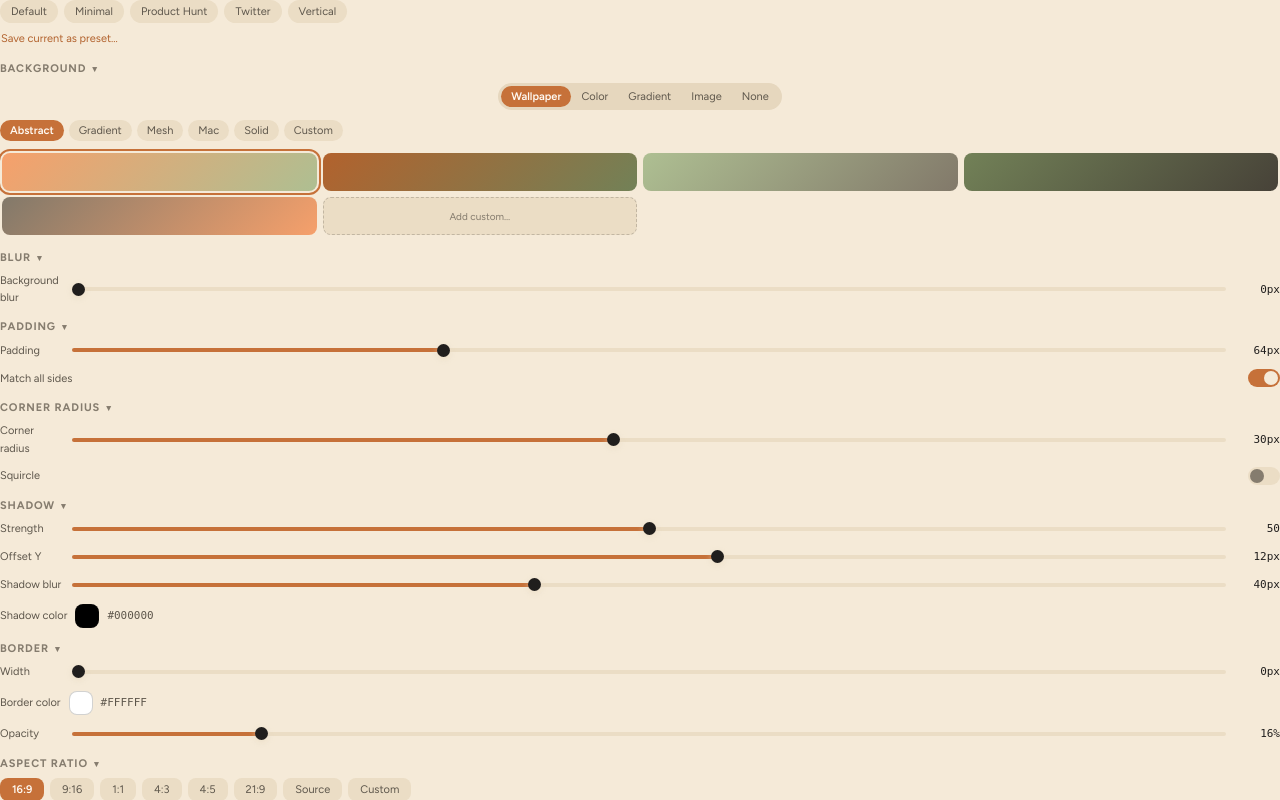
Test: Frame tab › saves the current frame as a named preset into app settings
Click the button "Save current as preset…".
click(59, 39)  # box [0,29,119,48]
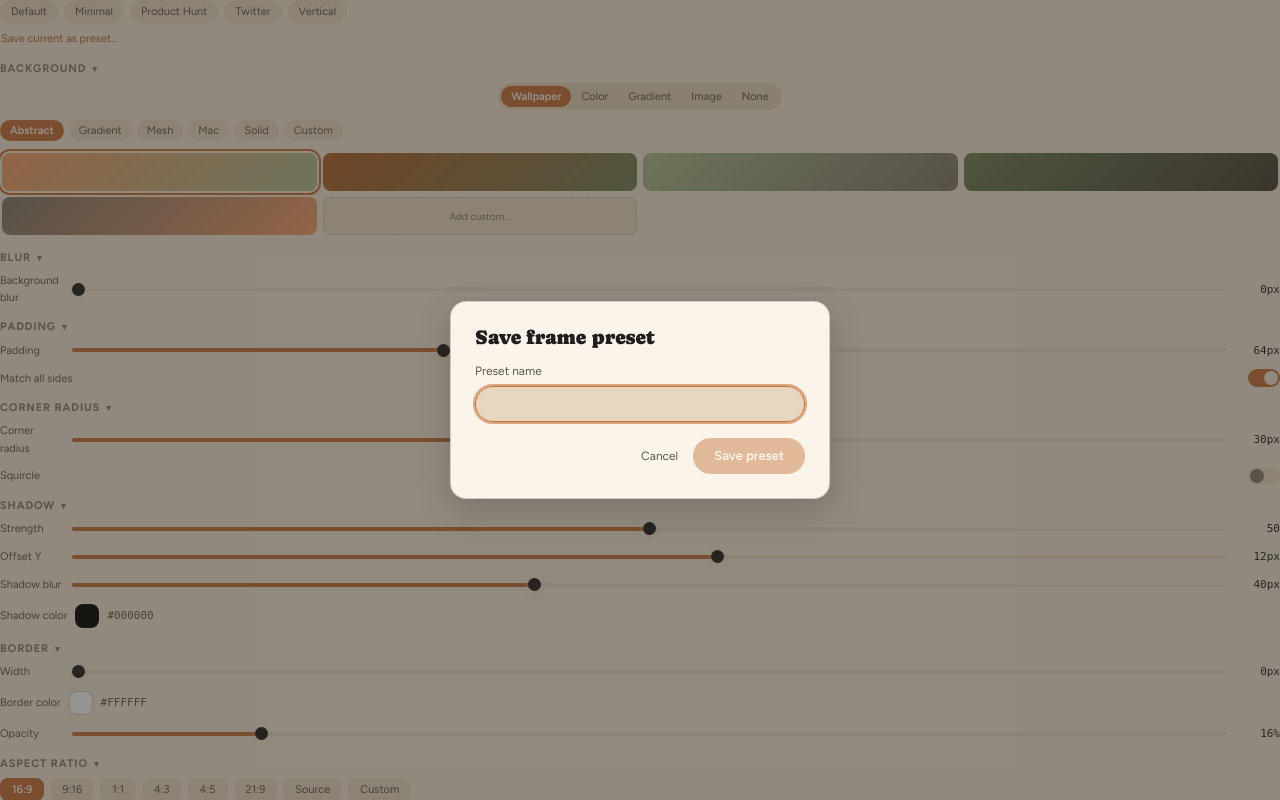
expect the button "Save preset" is disabled: met, box [693,438,805,474]
Type " Launch " into the field labelled "Preset name".
click(640, 404); type(" Launch ")  # box [475,386,805,422]
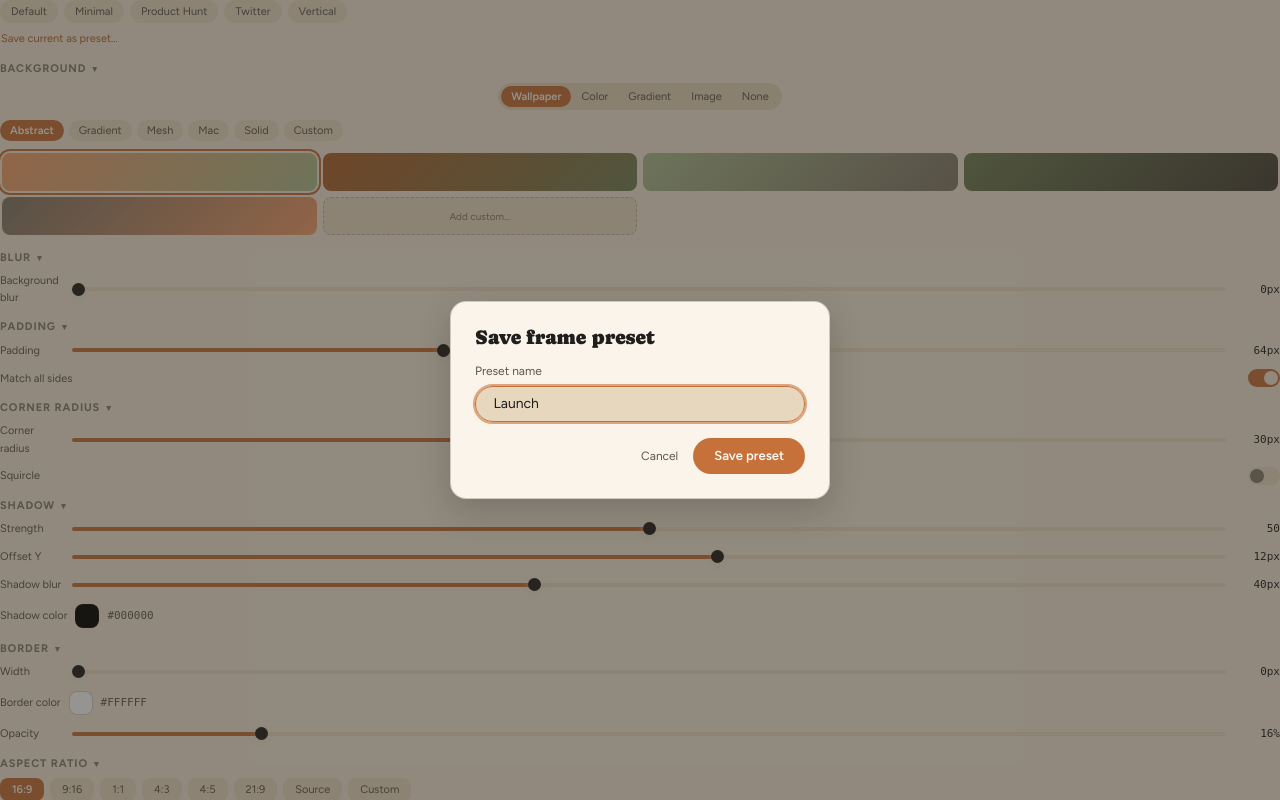
Click the button "Save preset".
click(749, 456)  # box [693,438,805,474]
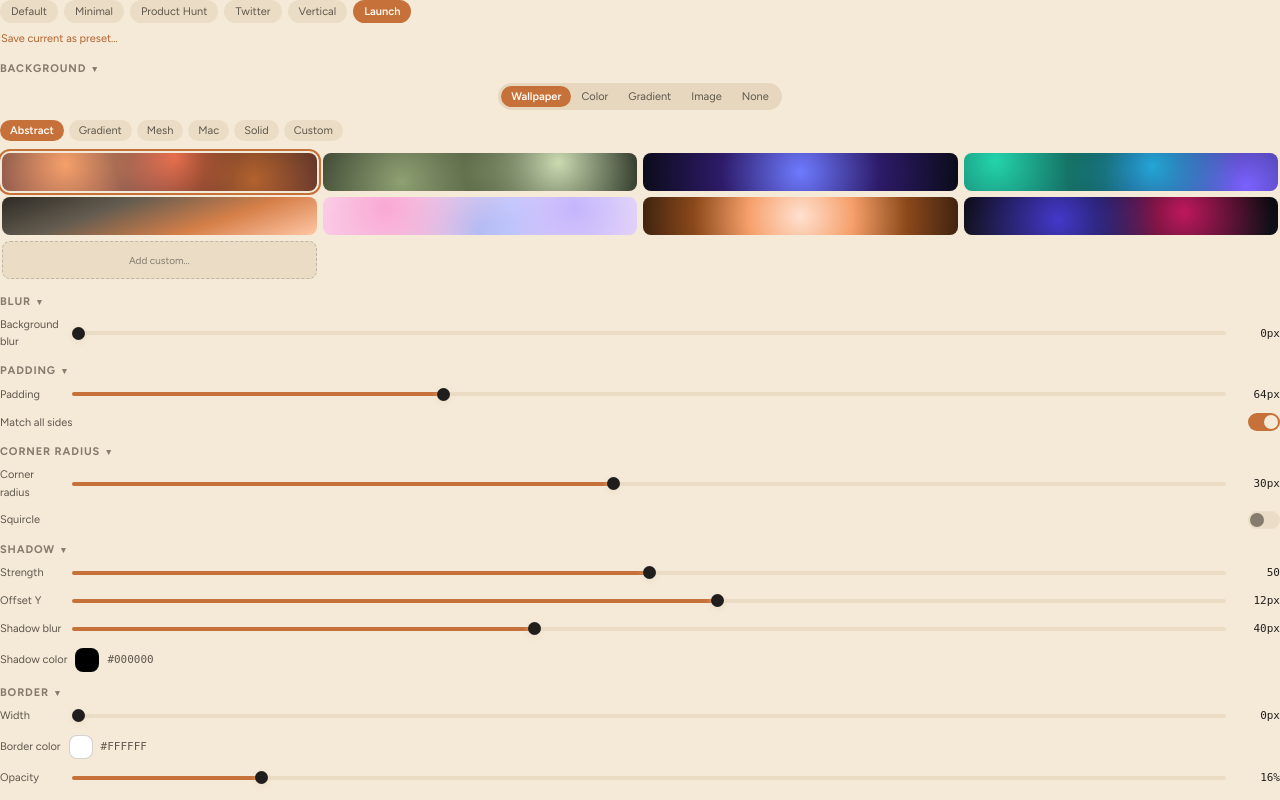
expect the dialog is gone: met
